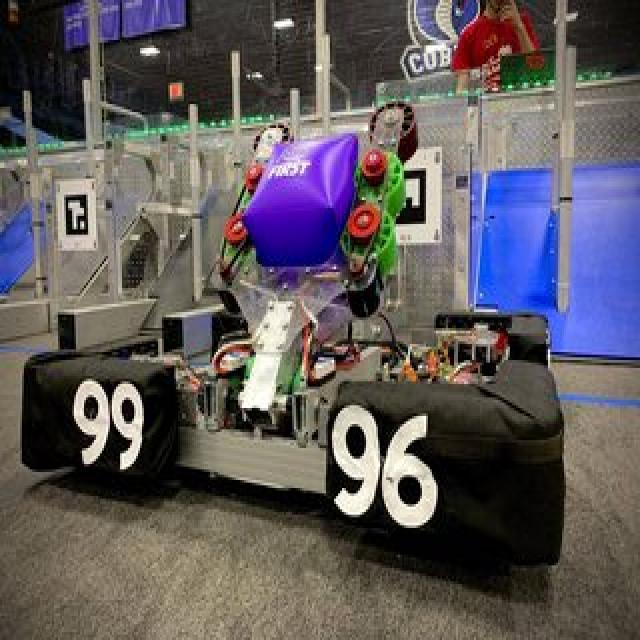robot: (1, 7, 573, 640)
